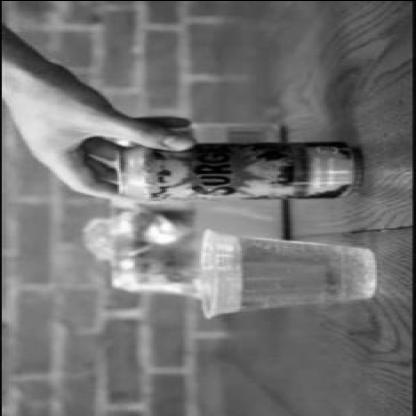alumunium_can: (114, 139, 364, 201)
objects: (198, 228, 380, 317)
